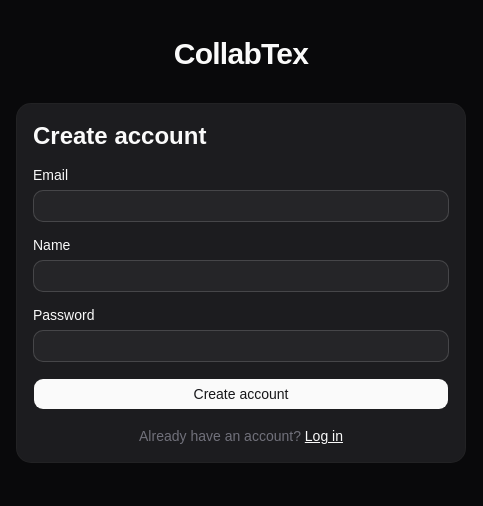
Test: RegisterPage › shows generic error for non-ApiError failures
Type "a@b.com" into the field labelled "Email".
click(241, 206); type("a@b.com")  # box [33,190,449,222]
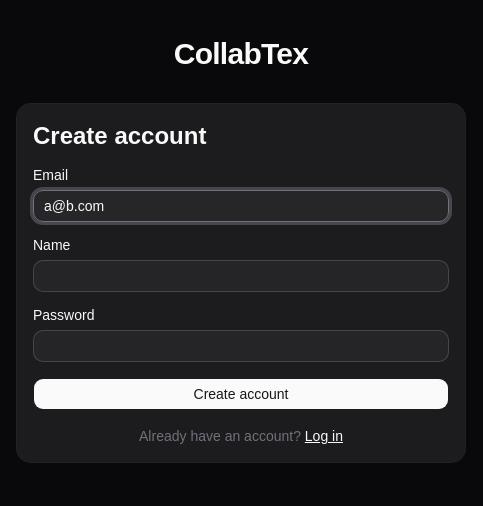
Type "Alice" into the field labelled "Name".
click(241, 276); type("Alice")  # box [33,260,449,292]
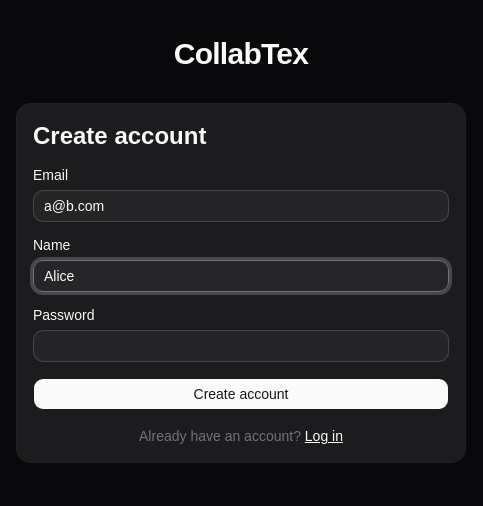
Type "pass123" into the password field labelled "Password".
click(241, 346); type("pass123")  # box [33,330,449,362]
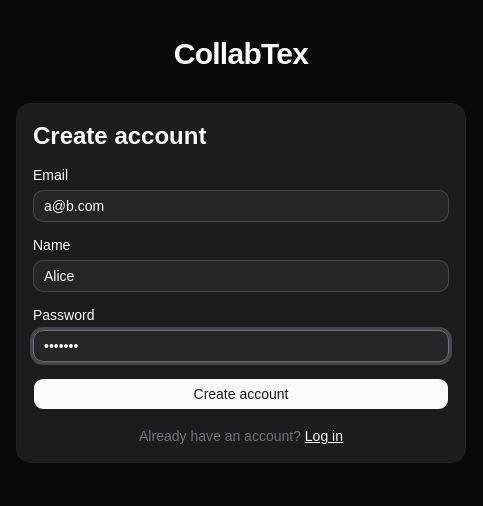
Click the button "Create account".
click(241, 394)  # box [33,378,449,410]
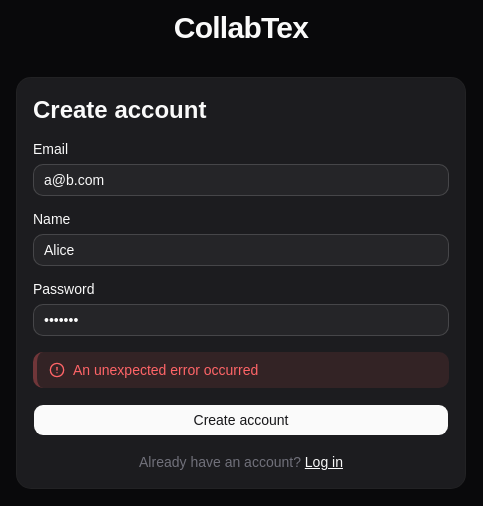
Expected: the message reads "An unexpected error occurred", [73,362,258,378]
